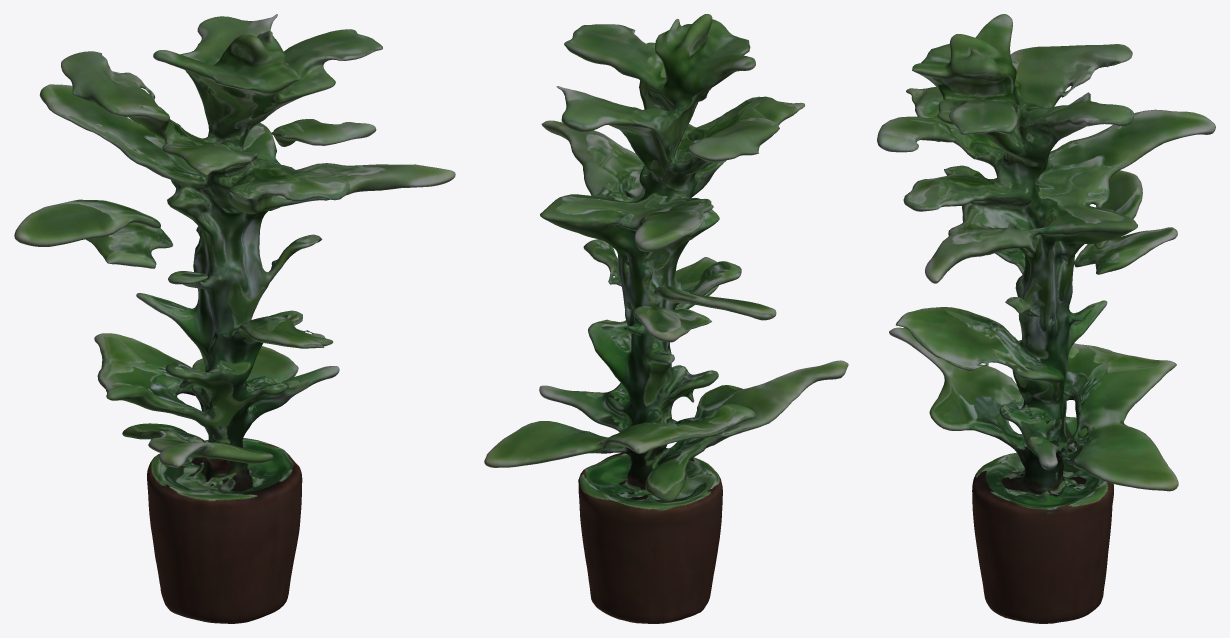
The model's file is e5dc3331b23b_plant__3d_asset_0_g.fbx.
The picture shows the model from 3 angles, left to right: view 1: azimuth 30°, elevation 25°; view 2: azimuth 150°, elevation 25°; view 3: azimuth 270°, elevation 25°; orthographic projection. The views are drawn at different scales.
Parts seen in each view (by area): view 1: mesh; view 2: mesh; view 3: mesh.
Boxes of the visible parts, x1=… form: mesh: x1=14, y1=14, x2=455, y2=623; mesh: x1=484, y1=14, x2=848, y2=623; mesh: x1=877, y1=14, x2=1215, y2=623.
Bounding box in the file's own units: 60.09 × 99.82 × 54.68.
